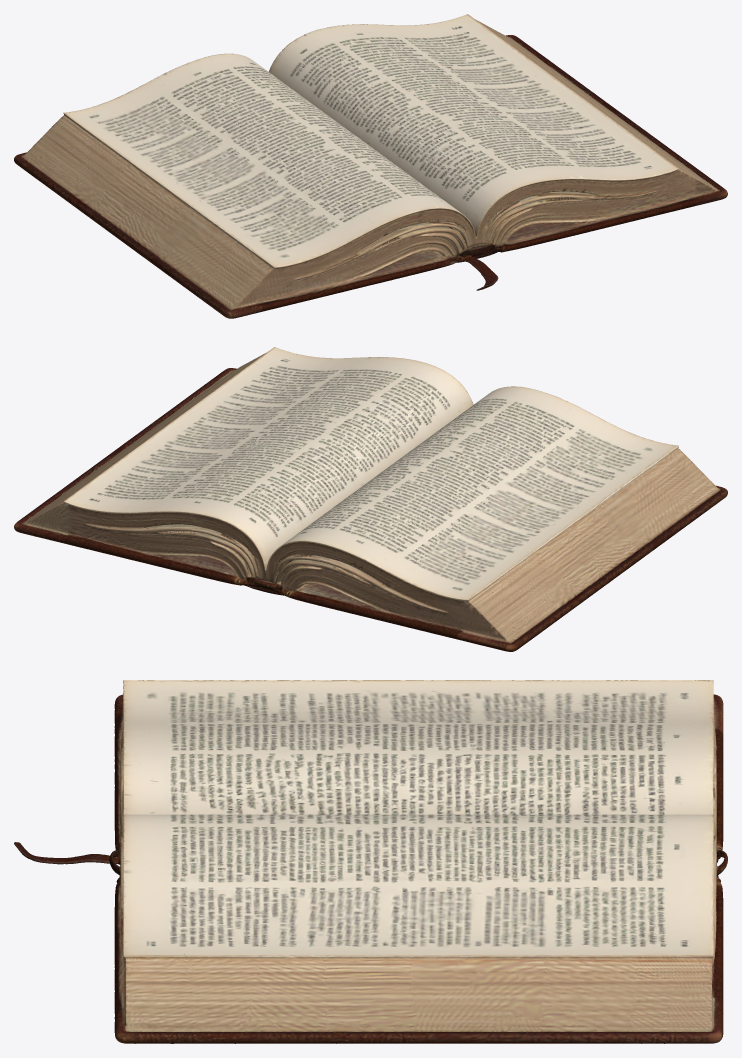
File: open-book_c.glb
3 renders of one model, top to bottom at view 1: azimuth 30°, elevation 25°; view 2: azimuth 150°, elevation 25°; view 3: azimuth 270°, elevation 25°, orthographic. The views are drawn at different scales.
Parts seen in each view (by area): view 1: Mesh_0.002; view 2: Mesh_0.002; view 3: Mesh_0.002.
Boxes of the visible parts, box(x1,y1,x2,y2) form: Mesh_0.002: box(14, 14, 727, 318); Mesh_0.002: box(14, 347, 727, 651); Mesh_0.002: box(14, 680, 727, 1043).
Size of the model in its own units: 0.9495 by 0.1132 by 0.8354.
Materials: 1 (1 with a texture image).
